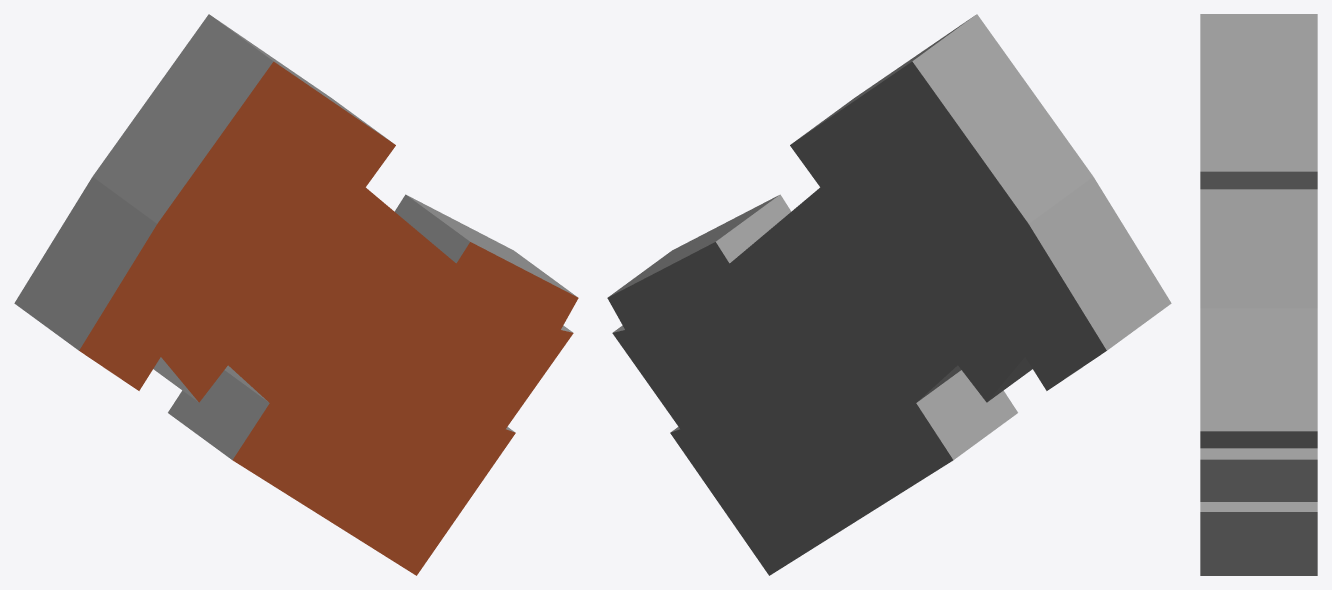
Rendered from construction_6612_assumed_A_Casa_h6m.obj.
3 views of the same model, side by side, from view 1: azimuth 30°, elevation 25°; view 2: azimuth 150°, elevation 25°; view 3: azimuth 270°, elevation 25° (orthographic). The views are drawn at different scales.
Visible parts, largest first — view 1: construction_6612_assumed_A_Casa; view 2: construction_6612_assumed_A_Casa; view 3: construction_6612_assumed_A_Casa.
Boxes of the visible parts, left/top/right/bottom form: construction_6612_assumed_A_Casa: left=14, top=14, right=578, bottom=575; construction_6612_assumed_A_Casa: left=607, top=14, right=1171, bottom=575; construction_6612_assumed_A_Casa: left=1200, top=14, right=1317, bottom=575.
Size of the model in its own units: 26.73 by 28.09 by 6.
